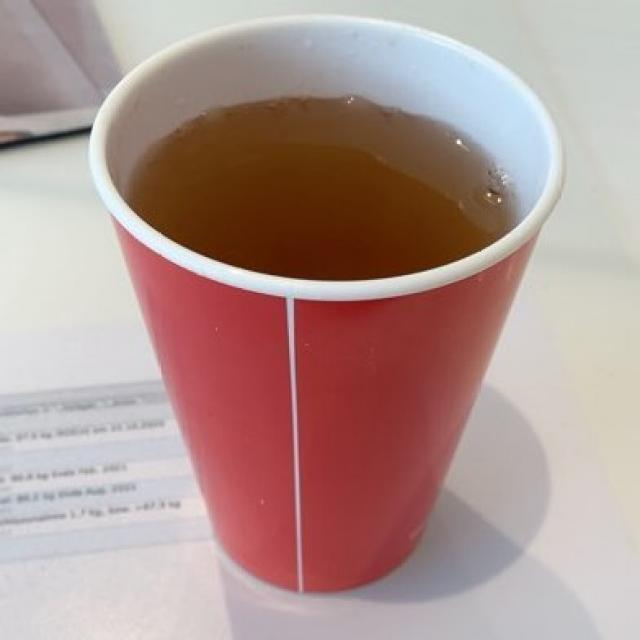tea: (135, 92, 500, 279)
